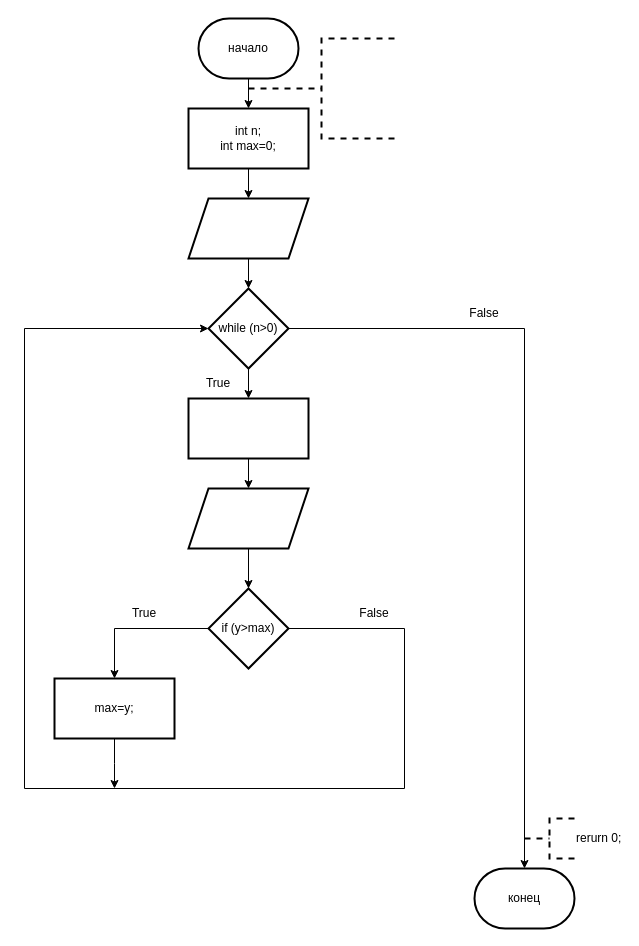
Image size: 639x946. Some labels were removed from this diagram. Each missing label, with the centre of its shape:
"#include <iostream> using namespace std; int main() {" belongs at point (321, 88).
"cin>>n;" belongs at point (248, 228).
"cin>>y;" belongs at point (248, 518).
"n--; int y;" belongs at point (248, 428).
